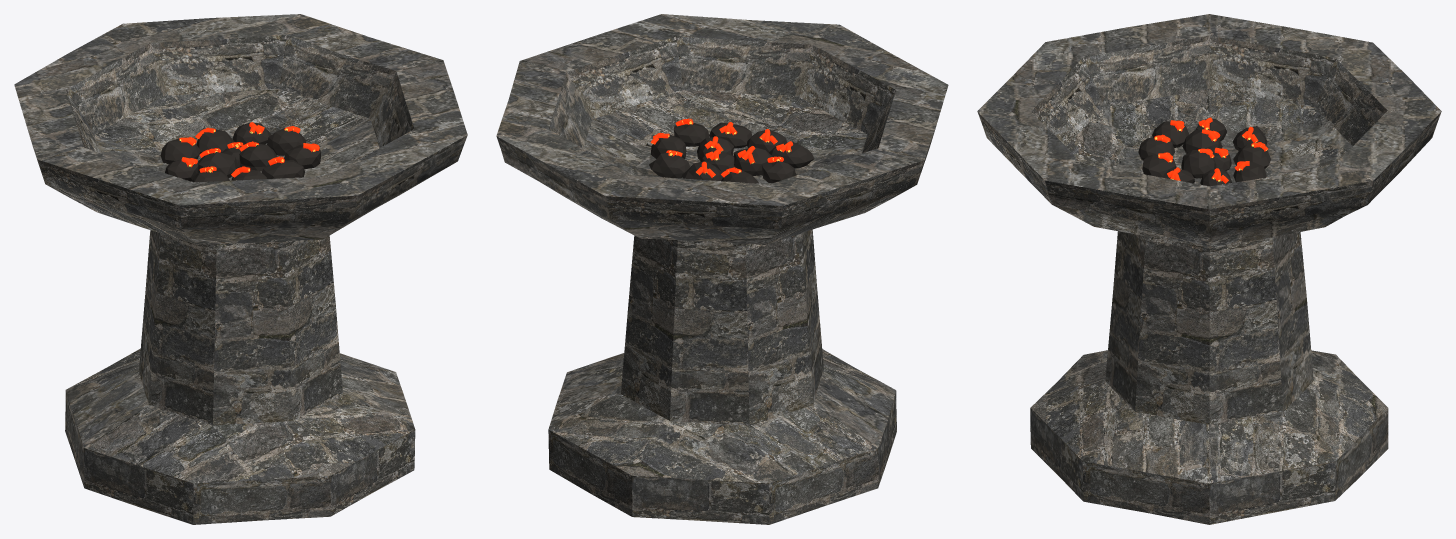
Rendered from stone-brazier-v02.glb.
3 views of the same model, side by side, from view 1: azimuth 30°, elevation 25°; view 2: azimuth 150°, elevation 25°; view 3: azimuth 270°, elevation 25° (orthographic).
Visible parts, largest first — view 1: stone-brazier, Review charcoal chunk 7, Review charcoal chunk 9, Review charcoal chunk 8, Review charcoal chunk 6, Review charcoal chunk 3, Review charcoal chunk 4, Review charcoal chunk 10, Review charcoal chunk 11; view 2: stone-brazier, Review charcoal chunk 11, Review charcoal chunk 1, Review charcoal chunk 6, Review charcoal chunk 4, Review charcoal chunk 3, Review charcoal chunk 5, Review charcoal chunk 8; view 3: stone-brazier, Review charcoal chunk 7, Review charcoal chunk 6, Review charcoal chunk 10, Review charcoal chunk 3, Review charcoal chunk 2.
Boxes of the visible parts, <box> form: stone-brazier: <box>14,14,467,524</box>; Review charcoal chunk 7: <box>239,143,277,171</box>; Review charcoal chunk 9: <box>160,138,200,164</box>; Review charcoal chunk 8: <box>267,128,306,155</box>; Review charcoal chunk 6: <box>198,152,237,177</box>; Review charcoal chunk 3: <box>261,160,304,178</box>; Review charcoal chunk 4: <box>284,144,320,168</box>; Review charcoal chunk 10: <box>196,129,234,153</box>; Review charcoal chunk 11: <box>232,122,271,144</box>; stone-brazier: <box>496,14,948,524</box>; Review charcoal chunk 11: <box>649,153,690,178</box>; Review charcoal chunk 1: <box>769,141,814,168</box>; Review charcoal chunk 6: <box>733,147,772,175</box>; Review charcoal chunk 4: <box>673,122,709,146</box>; Review charcoal chunk 3: <box>709,122,751,148</box>; Review charcoal chunk 5: <box>762,161,796,183</box>; Review charcoal chunk 8: <box>650,134,686,158</box>; stone-brazier: <box>977,14,1441,524</box>; Review charcoal chunk 7: <box>1181,150,1216,178</box>; Review charcoal chunk 6: <box>1182,129,1222,153</box>; Review charcoal chunk 10: <box>1233,144,1271,168</box>; Review charcoal chunk 3: <box>1142,155,1176,177</box>; Review charcoal chunk 2: <box>1138,137,1175,160</box>.
Bounding box in the file's own units: 1.56 × 1.26 × 1.56.
Materials: 4 (1 with a texture image).
